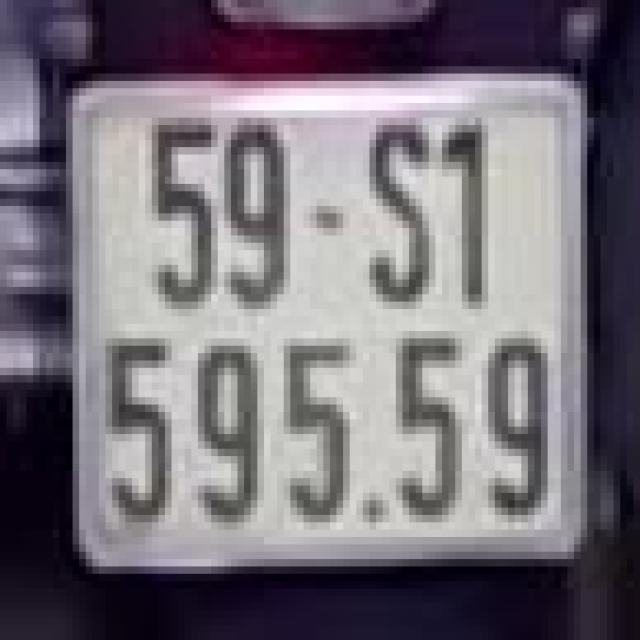1: (435, 107, 495, 320)
5: (135, 107, 221, 320), (389, 320, 475, 533), (99, 331, 191, 522), (277, 324, 356, 544)
9: (475, 309, 561, 522), (188, 320, 274, 526), (221, 103, 300, 309)
S: (356, 103, 436, 316)
